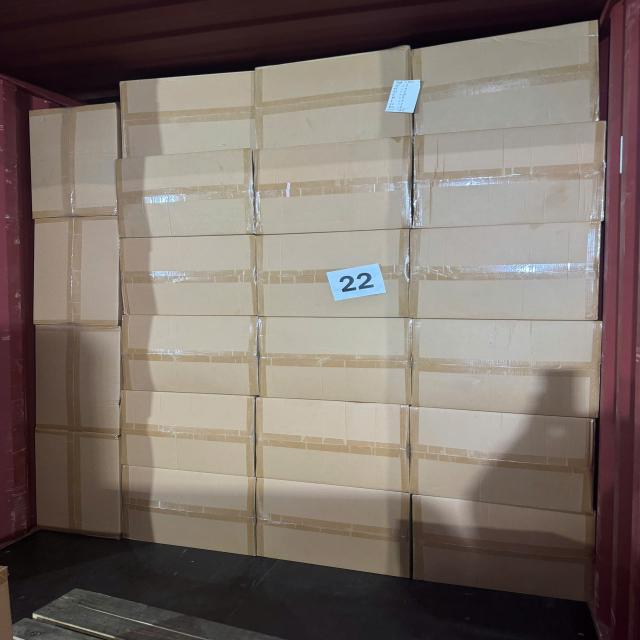Carton: (407, 122, 603, 228), (409, 31, 603, 138), (404, 402, 592, 512), (407, 493, 592, 604), (407, 320, 601, 424), (405, 224, 600, 326), (252, 43, 413, 152), (252, 473, 409, 582), (254, 395, 416, 495), (252, 136, 411, 234), (116, 460, 260, 562), (258, 316, 411, 412), (255, 232, 410, 323), (110, 146, 252, 236), (119, 69, 260, 159), (113, 236, 254, 322), (122, 390, 260, 477), (115, 317, 254, 402), (32, 214, 122, 328), (34, 321, 123, 435), (33, 429, 122, 542), (32, 104, 116, 218)
